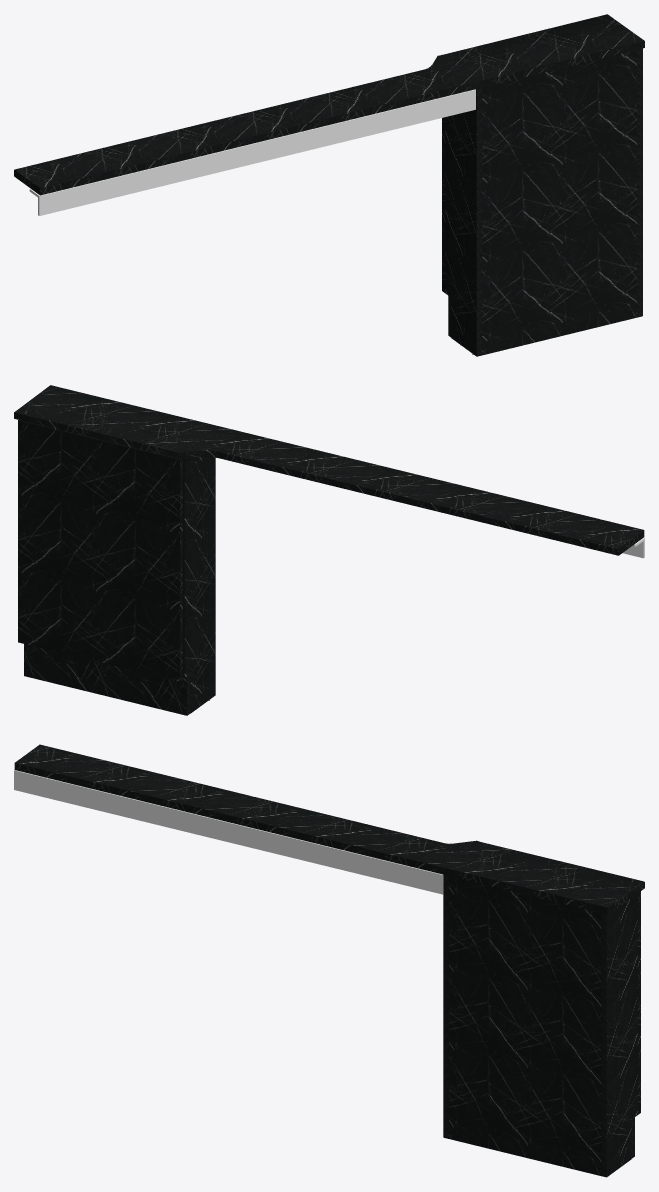
File: SM_ToiletShelf_1.fbx
3 renders of one model, top to bottom at view 1: azimuth 30°, elevation 25°; view 2: azimuth 150°, elevation 25°; view 3: azimuth 330°, elevation 25°, orthographic.
Visible parts, largest first — view 1: SM_ToiletShelf_1; view 2: SM_ToiletShelf_1; view 3: SM_ToiletShelf_1.
Part boxes in pixels (x1=…): SM_ToiletShelf_1: x1=14, y1=14, x2=644, y2=356; SM_ToiletShelf_1: x1=14, y1=385, x2=644, y2=715; SM_ToiletShelf_1: x1=14, y1=744, x2=644, y2=1177.
Bounding box in the file's own units: 1.6 × 0.7002 × 0.1699.
2 materials, 2 textured.
